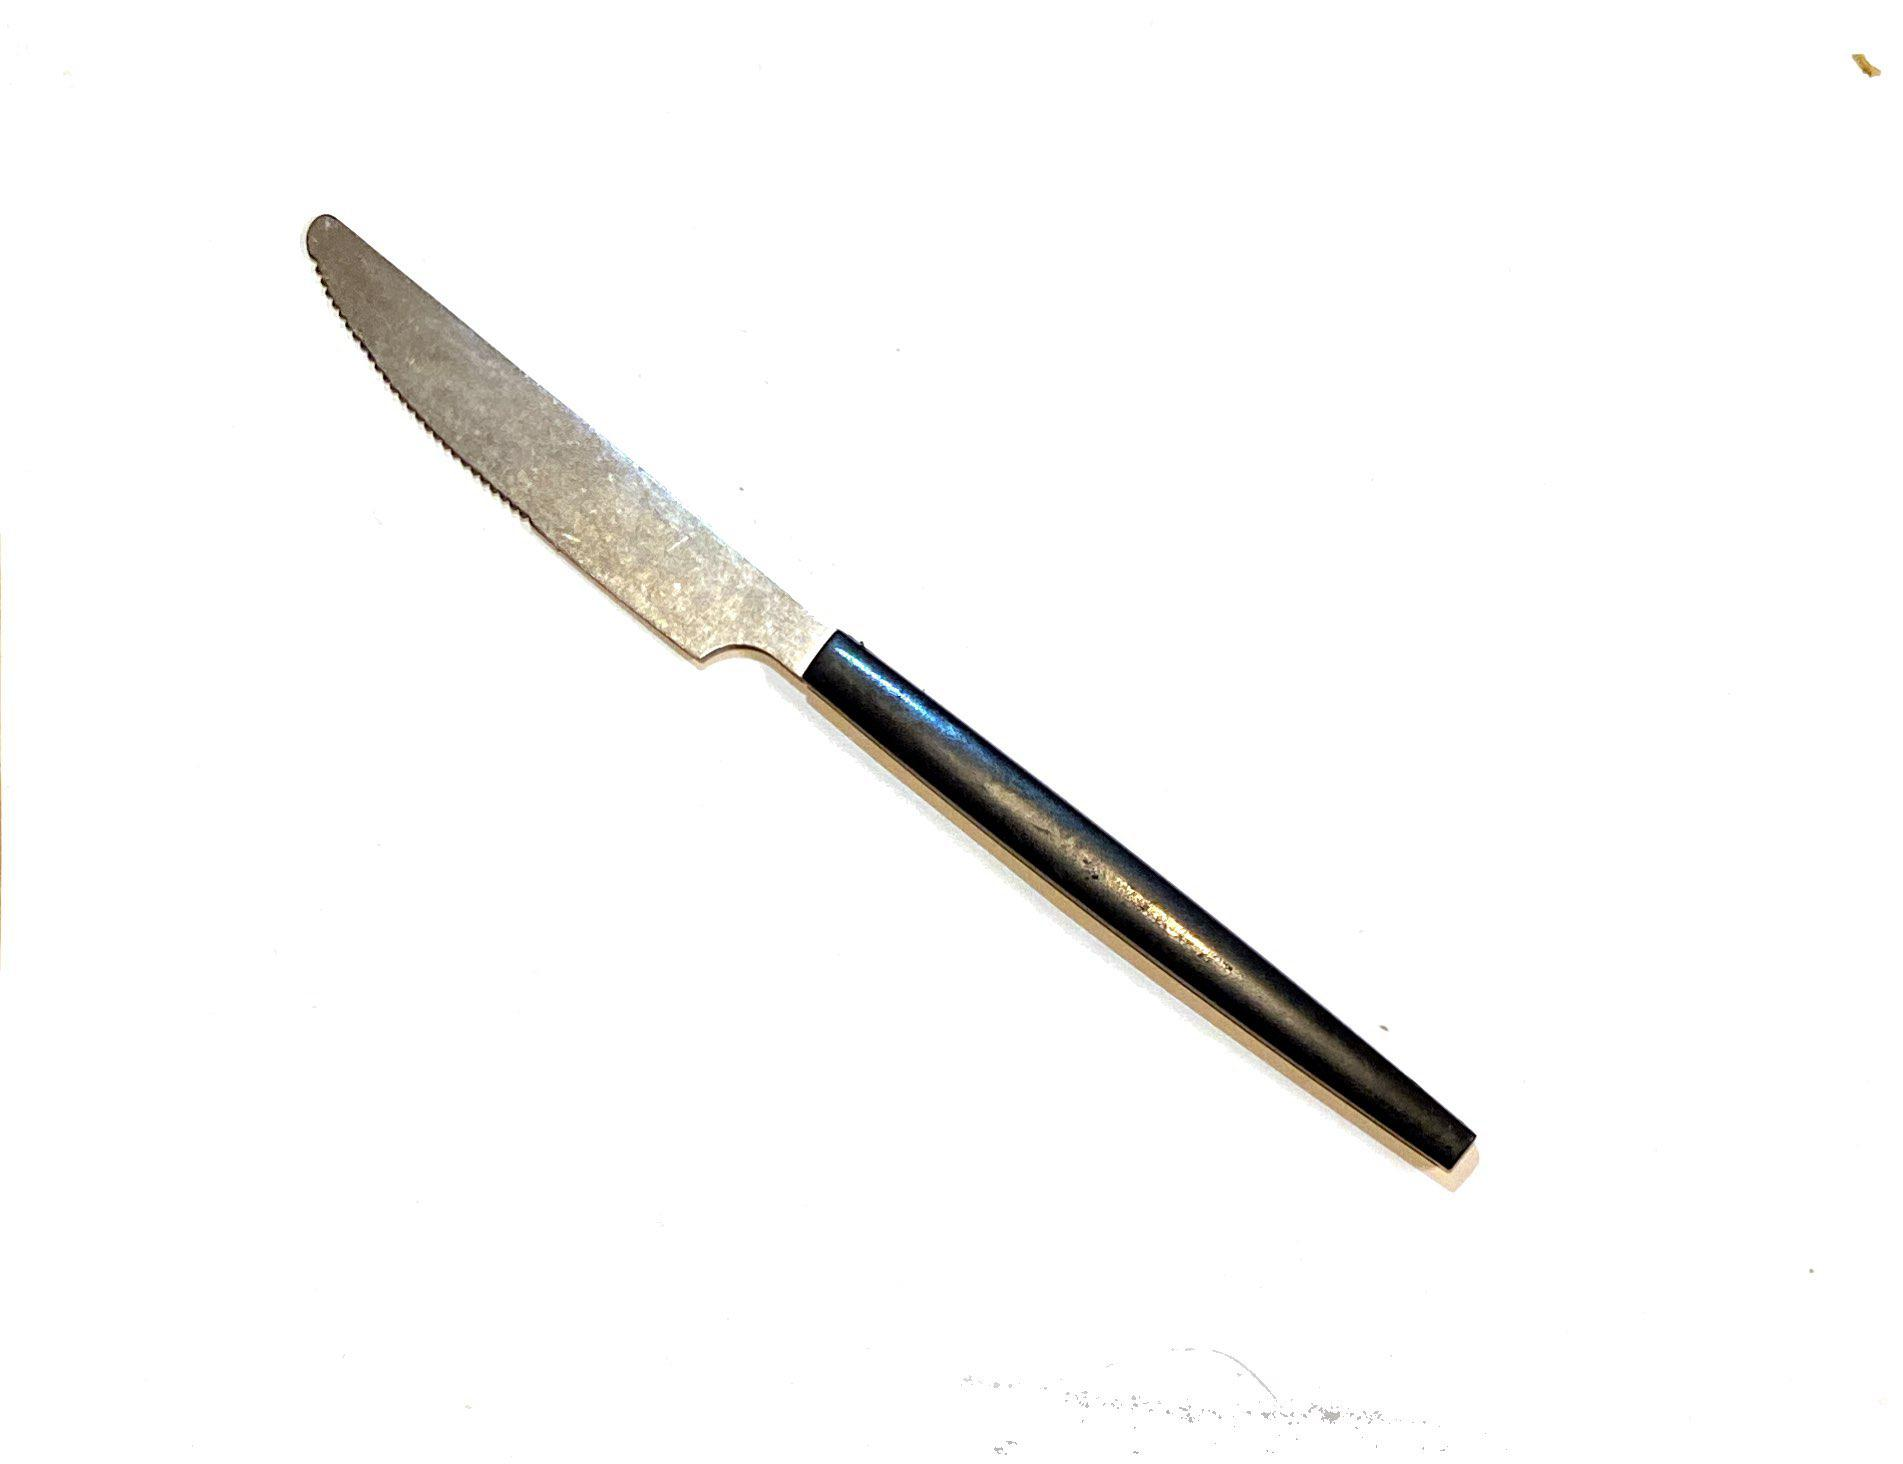Knife: (257, 91, 1583, 1209)
